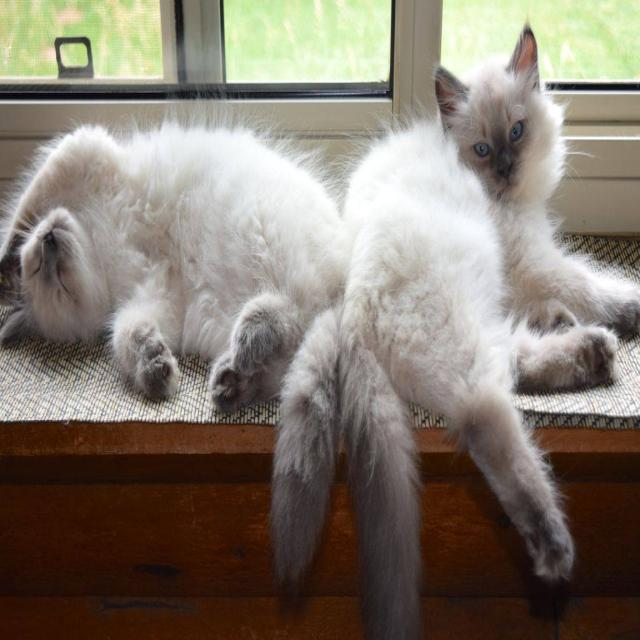Neva Masquerade: (340, 15, 640, 640), (0, 112, 341, 590)
